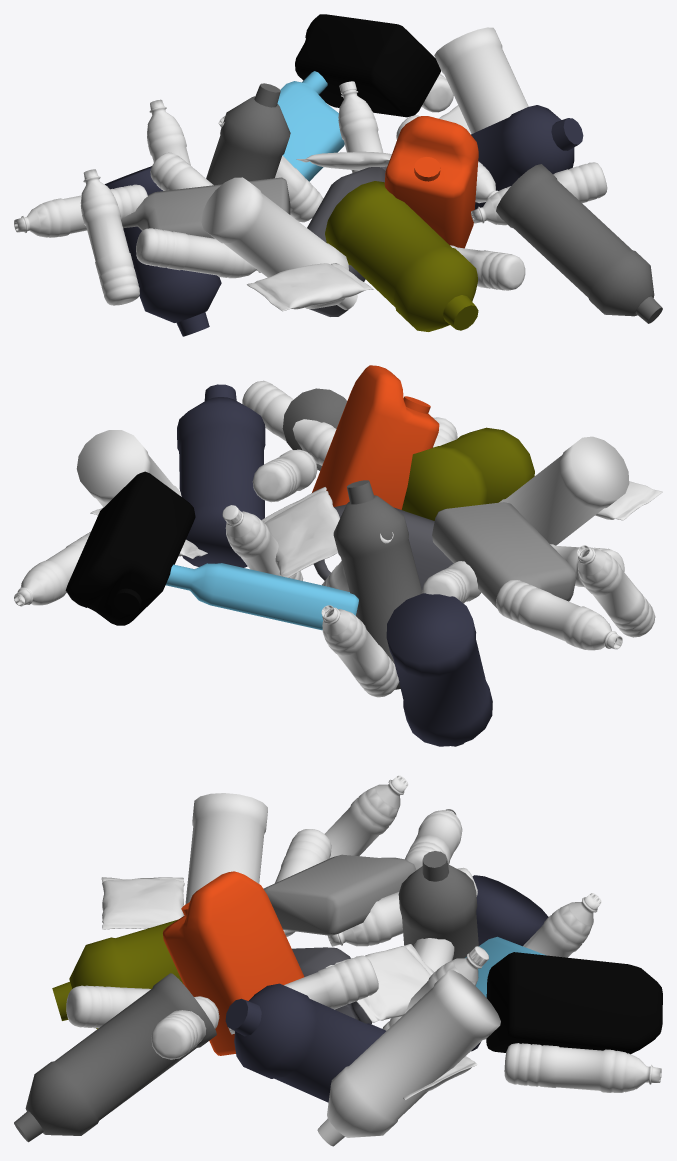
Rendered from EOTS Trash V2.fbx.
3 renders of one model, top to bottom at view 1: azimuth 30°, elevation 25°; view 2: azimuth 150°, elevation 25°; view 3: azimuth 270°, elevation 25°, orthographic. The views are drawn at different scales.
Visible parts, largest first — view 1: SM_BottlePlasticC_02.003; view 2: SM_BottlePlasticC_02.003; view 3: SM_BottlePlasticC_02.003.
Boxes of the visible parts, x1=… form: SM_BottlePlasticC_02.003: x1=14, y1=14, x2=662, y2=336; SM_BottlePlasticC_02.003: x1=14, y1=365, x2=662, y2=746; SM_BottlePlasticC_02.003: x1=14, y1=775, x2=662, y2=1146.
Bounding box in the file's own units: 2707 × 1271 × 2707.
